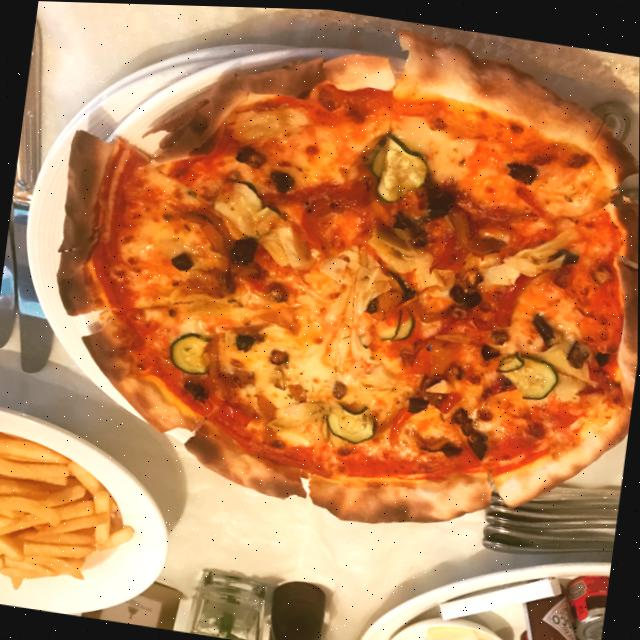pizza: (24, 1, 640, 560)
